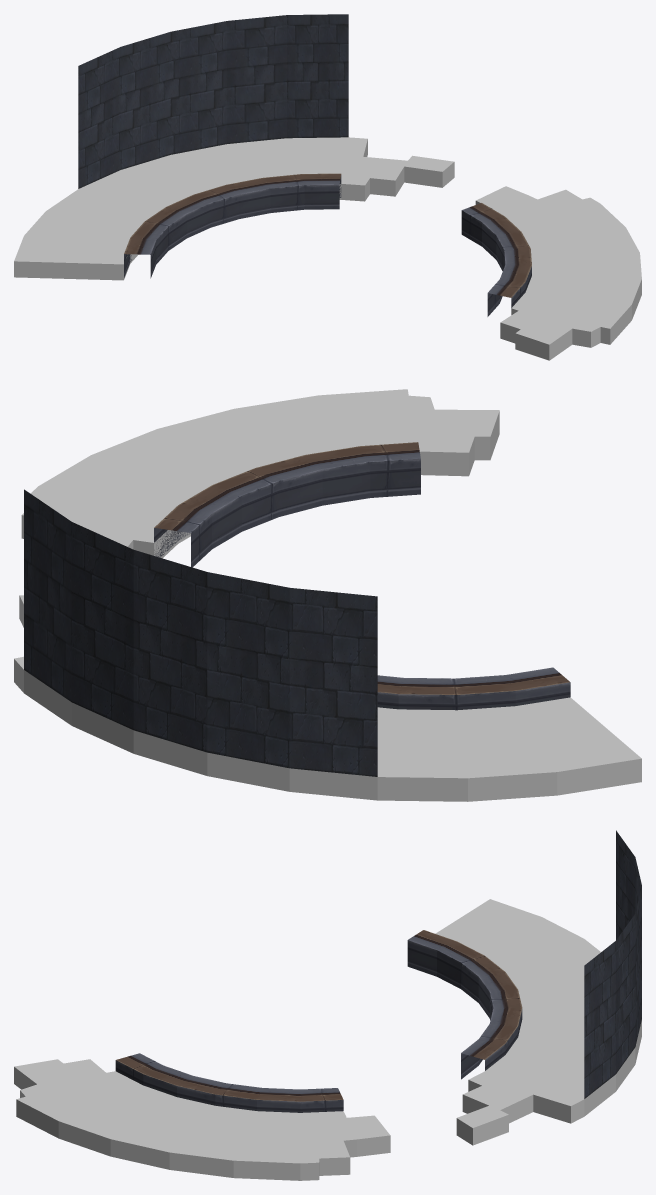
File: cs_yanjiangchengbao_erceng_001.FBX
The picture shows the model from 3 angles, top to bottom: view 1: azimuth 30°, elevation 25°; view 2: azimuth 150°, elevation 25°; view 3: azimuth 270°, elevation 25°; orthographic projection. The views are drawn at different scales.
Parts seen in each view (by area): view 1: cs_yanjiangchengbao_erceng_001; view 2: cs_yanjiangchengbao_erceng_001; view 3: cs_yanjiangchengbao_erceng_001.
Part boxes in pixels (x1=…): cs_yanjiangchengbao_erceng_001: x1=14, y1=14, x2=641, y2=360; cs_yanjiangchengbao_erceng_001: x1=14, y1=389, x2=641, y2=801; cs_yanjiangchengbao_erceng_001: x1=14, y1=830, x2=641, y2=1180.
Bounding box in the file's own units: 52.06 × 52.24 × 13.88.
